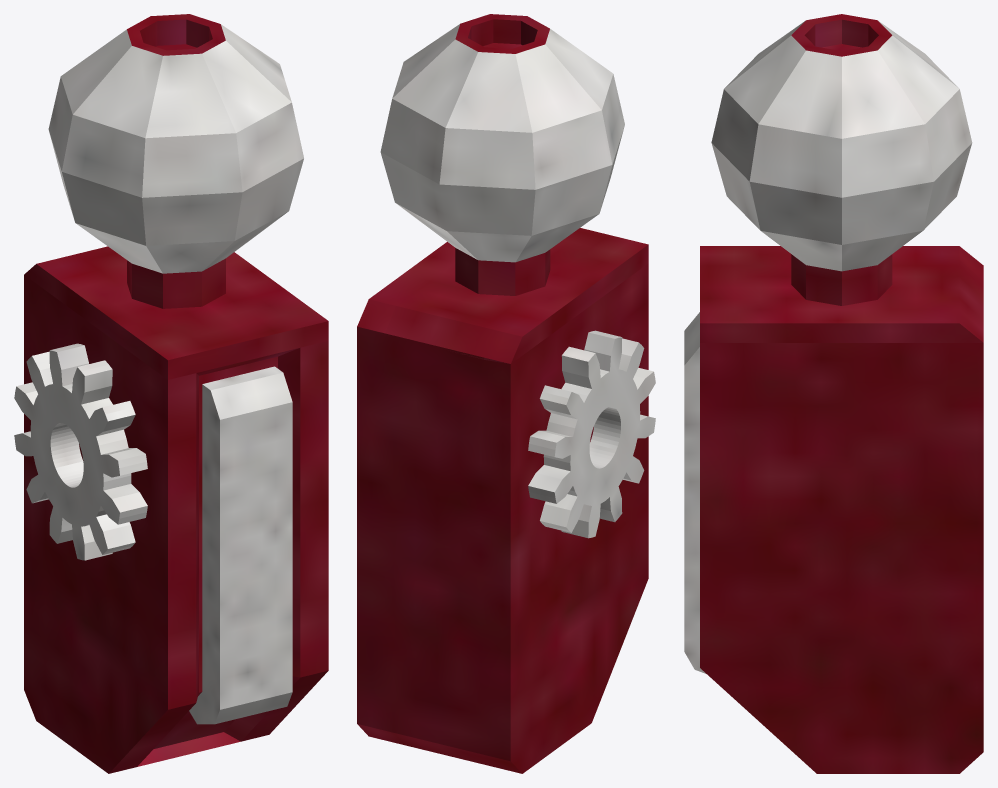
The model's file is hand-lamp.fbx.
The picture shows the model from 3 angles, left to right: view 1: azimuth 30°, elevation 25°; view 2: azimuth 150°, elevation 25°; view 3: azimuth 270°, elevation 25°; orthographic projection. The views are drawn at different scales.
Visible parts, largest first — view 1: Cube.029, Cube.030; view 2: Cube.029; view 3: Cube.029, Cube.030.
Part boxes in pixels (x1,y1,x2,y2): Cube.029: [14, 14, 328, 773]; Cube.030: [189, 366, 292, 724]; Cube.029: [357, 14, 655, 773]; Cube.029: [700, 14, 983, 773]; Cube.030: [684, 312, 705, 673].
Bounding box in the file's own units: 10.97 × 32.47 × 12.59.
